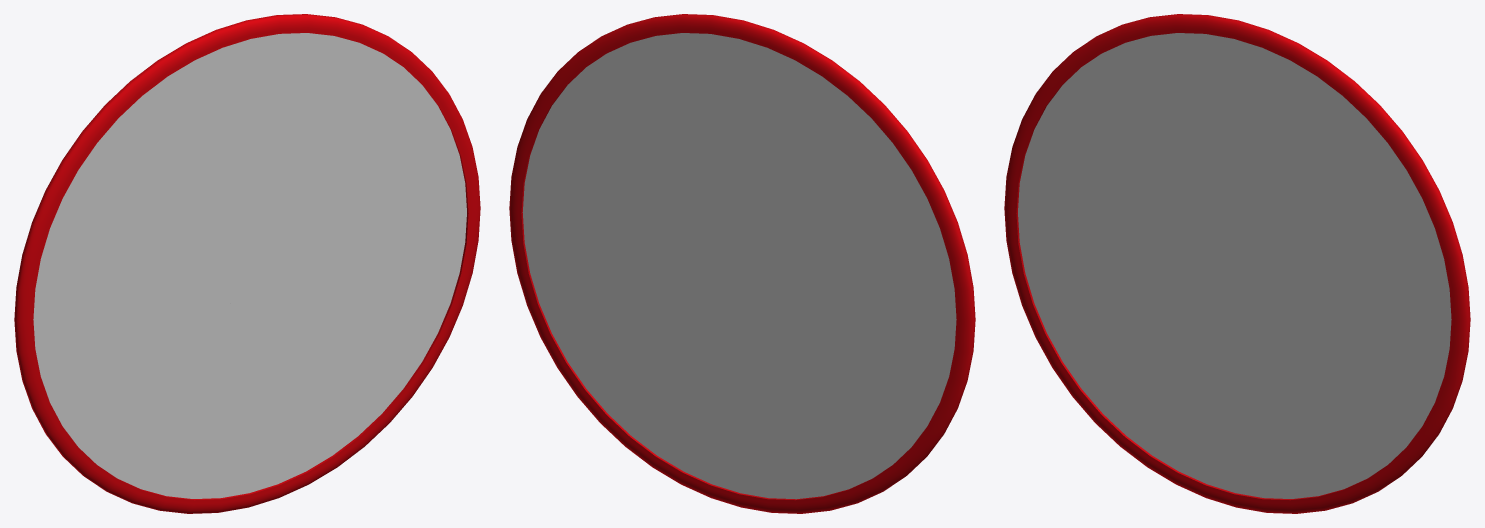
The model's file is Wall_3_Frame.fbx.
3 views of the same model, side by side, from view 1: azimuth 30°, elevation 25°; view 2: azimuth 150°, elevation 25°; view 3: azimuth 330°, elevation 25° (orthographic).
Parts seen in each view (by area): view 1: Wall_3, Wall_3_Frame; view 2: Wall_3, Wall_3_Frame; view 3: Wall_3, Wall_3_Frame.
Part boxes in pixels (x1=…): Wall_3: x1=33, y1=33, x2=466, y2=498; Wall_3_Frame: x1=14, y1=14, x2=480, y2=513; Wall_3: x1=522, y1=33, x2=956, y2=499; Wall_3_Frame: x1=509, y1=14, x2=975, y2=513; Wall_3: x1=1018, y1=33, x2=1451, y2=498; Wall_3_Frame: x1=1004, y1=14, x2=1470, y2=513.
Bounding box in the file's own units: 3.16 × 3.16 × 0.0823.
